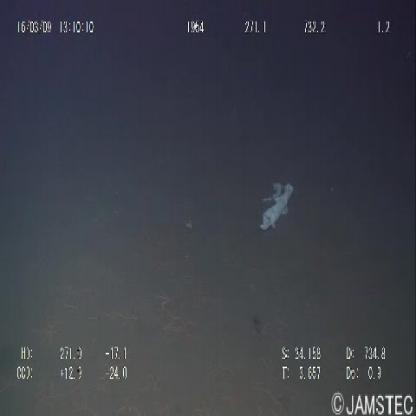Rác: (256, 173, 299, 237)
